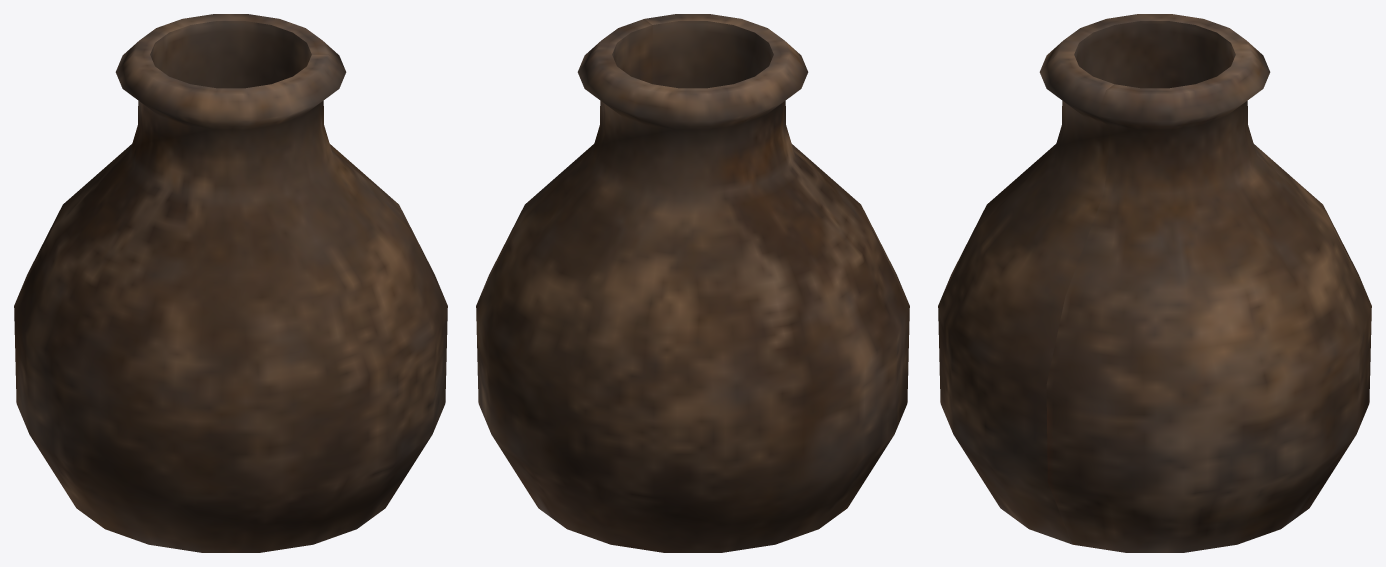
Rendered from SM_Pot_02.gltf.
3 renders of one model, left to right at view 1: azimuth 30°, elevation 25°; view 2: azimuth 150°, elevation 25°; view 3: azimuth 270°, elevation 25°, orthographic.
Visible parts, largest first — view 1: SM_Pot_02_LOD0; view 2: SM_Pot_02_LOD0; view 3: SM_Pot_02_LOD0.
Boxes of the visible parts, <box> form: SM_Pot_02_LOD0: <box>14,14,447,552</box>; SM_Pot_02_LOD0: <box>476,14,909,552</box>; SM_Pot_02_LOD0: <box>938,14,1371,552</box>.
Size of what is drawn, in the model's own units: 0.5135 by 0.6041 by 0.5214.
1 material, 1 textured.
